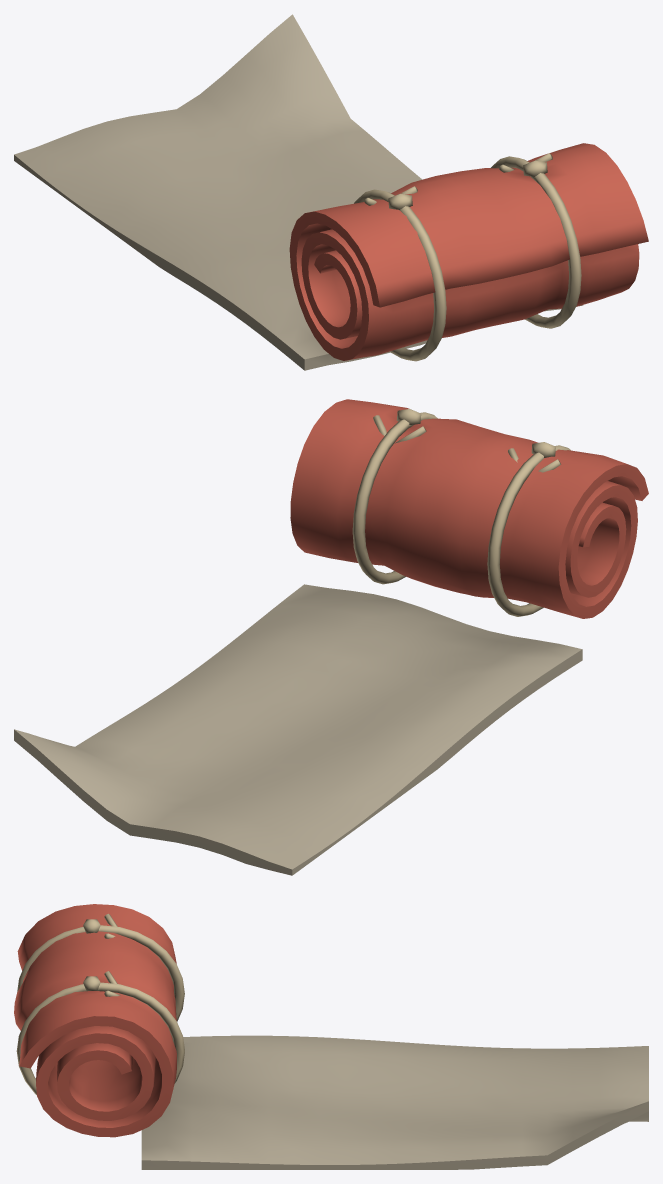
The model's file is bedroll.c1a33e69.glb.
3 views of the same model, one above another, from view 1: azimuth 30°, elevation 25°; view 2: azimuth 150°, elevation 25°; view 3: azimuth 270°, elevation 25° (orthographic). The views are drawn at different scales.
Visible parts, largest first — view 1: bedroll; view 2: bedroll; view 3: bedroll.
Part boxes in pixels (bbox=[...]): bedroll: bbox=[14, 14, 648, 370]; bedroll: bbox=[14, 399, 648, 875]; bedroll: bbox=[14, 904, 648, 1169].
Size of the model in its own units: 0.62 by 0.3921 by 1.4.
